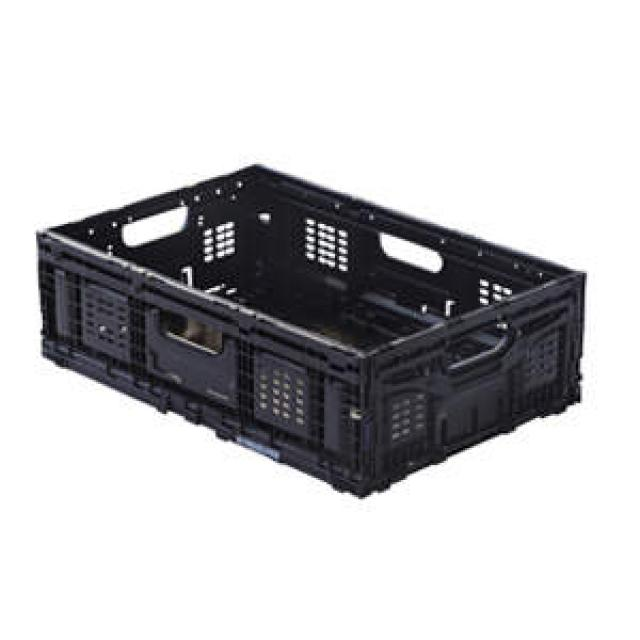basket: (0, 105, 621, 555)
